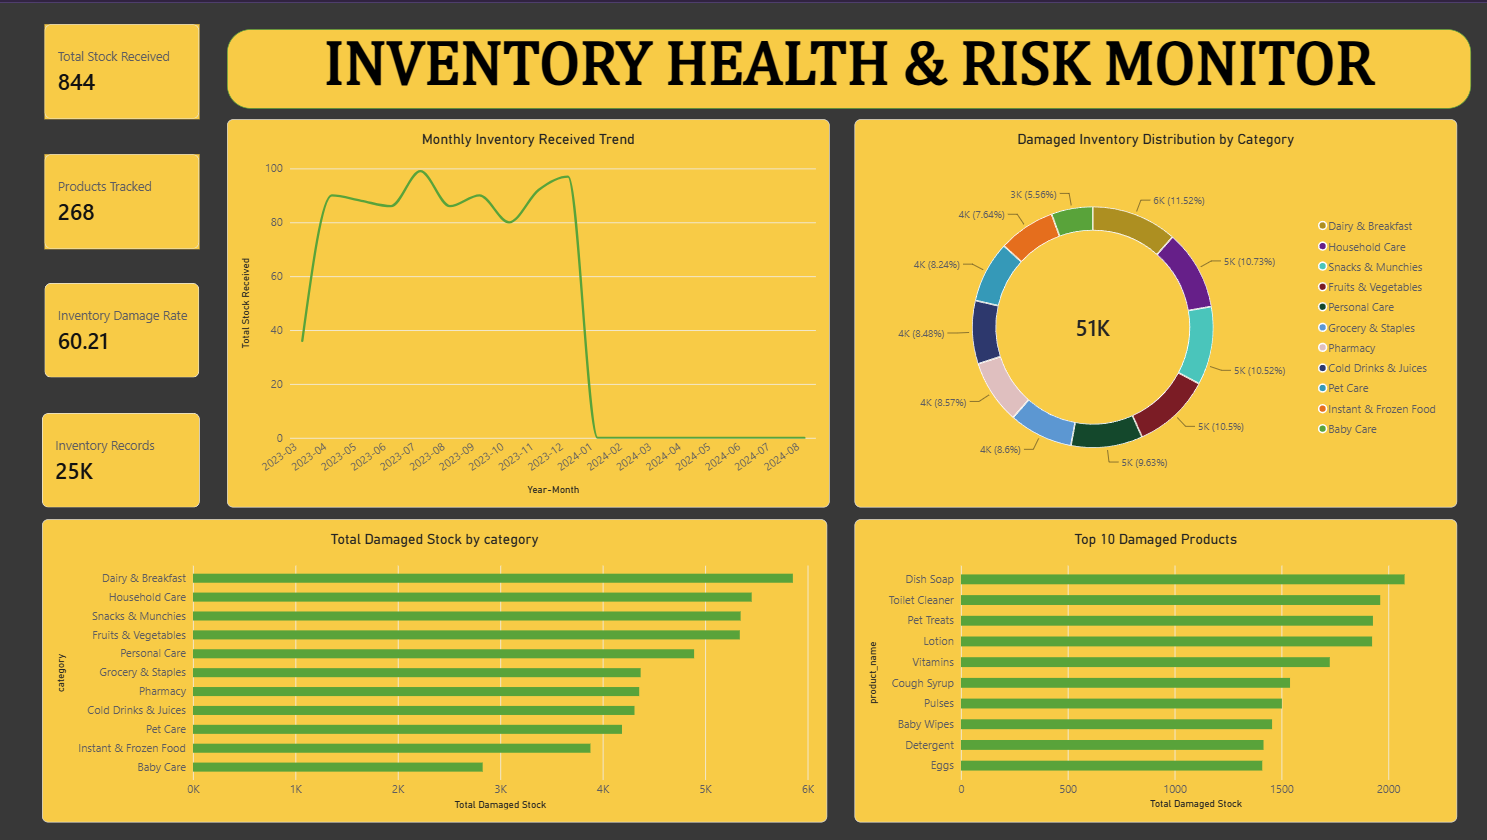

This screenshot's page, from the dashboard's own definition file:
{"tool":"powerbi","page":{"name":"INVENTORY ANALYSIS & RISK ","canvas":[1920,1080],"ordinal":8},"visuals":[{"type":"cardVisual","fields":{"Data":["blinkit_inventory_combined.Products Tracked"]},"box":[60.7,193.3,198.8,121.5],"z":0},{"type":"cardVisual","fields":{"Data":["blinkit_inventory_combined.Inventory Records"]},"box":[57.1,524.5,202.5,121.5],"z":1000},{"type":"cardVisual","fields":{"Data":["blinkit_inventory_combined.Inventory Damage Rate"]},"box":[60.7,358.9,198.8,121.5],"z":2000},{"type":"cardVisual","fields":{"Data":["blinkit_inventory_combined.Total Stock Received"]},"box":[60.7,27.6,198.8,121.5],"z":3000},{"type":"lineChart","title":"Monthly Inventory Received Trend","fields":{"Category":["DateTable.Year-Month"],"Y":["blinkit_inventory_combined.Total Stock Received"]},"box":[294.5,149.1,771.2,496.9],"z":4000},{"type":"donutChart","title":"Damaged Inventory Distribution by Category","fields":{"Category":["blinkit_products.category"],"Y":["blinkit_inventory_combined.Total Damaged Stock"]},"box":[1096.9,149.1,771.2,496.9],"z":5000},{"type":"clusteredBarChart","fields":{"Category":["blinkit_products.category"],"Y":["blinkit_inventory_combined.Total Damaged Stock"]},"box":[57.1,660.7,1004.9,388.3],"z":6000},{"type":"clusteredBarChart","title":"Top 10 Damaged Products","fields":{"Category":["blinkit_products.product_name"],"Y":["blinkit_inventory_combined.Total Damaged Stock"]},"box":[1097,661,771,388],"z":7000},{"type":"textbox","box":[294.5,33.1,1592,101.2],"z":8000}]}

Visuals, with their boxes in screenshot pixels (x1, y1, x2, y2), scaled from the page's 1920x1080 canvas onto the 1487x840 screenshot:
cardVisual - blinkit_inventory_combined.Products Tracked: (x1=47, y1=150, x2=201, y2=245)
cardVisual - blinkit_inventory_combined.Inventory Records: (x1=44, y1=408, x2=201, y2=502)
cardVisual - blinkit_inventory_combined.Inventory Damage Rate: (x1=47, y1=279, x2=201, y2=374)
cardVisual - blinkit_inventory_combined.Total Stock Received: (x1=47, y1=21, x2=201, y2=116)
"Monthly Inventory Received Trend" lineChart: (x1=228, y1=116, x2=825, y2=502)
"Damaged Inventory Distribution by Category" donutChart: (x1=850, y1=116, x2=1447, y2=502)
clusteredBarChart - blinkit_products.category x blinkit_inventory_combined.Total Damaged Stock: (x1=44, y1=514, x2=822, y2=816)
"Top 10 Damaged Products" clusteredBarChart: (x1=850, y1=514, x2=1447, y2=816)
textbox: (x1=228, y1=26, x2=1461, y2=104)
